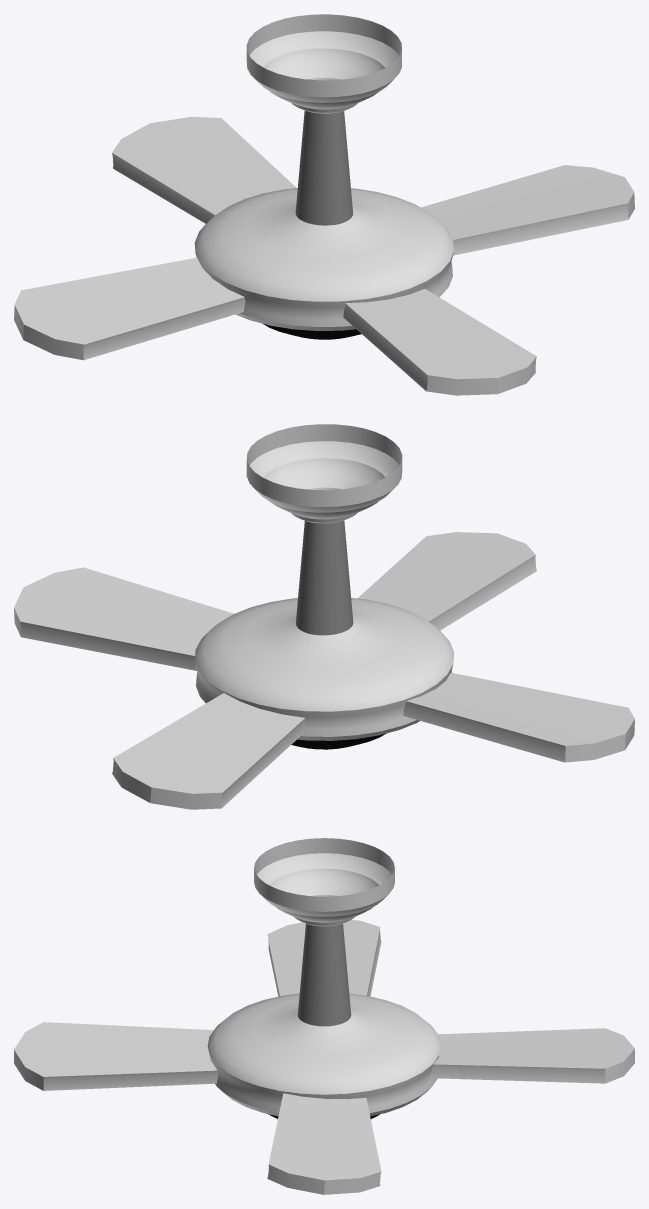
Rendered from Bedroom.CeilingFan.fbx.
The picture shows the model from 3 angles, top to bottom: view 1: azimuth 30°, elevation 25°; view 2: azimuth 150°, elevation 25°; view 3: azimuth 270°, elevation 25°; orthographic projection. The views are drawn at different scales.
Visible parts, largest first — view 1: Ceiling Fan - Arms, Ceiling_Fan, Ceiling_Fan_Pole, Ceiling_Fan_Light; view 2: Ceiling Fan - Arms, Ceiling_Fan, Ceiling_Fan_Pole, Ceiling_Fan_Light; view 3: Ceiling Fan - Arms, Ceiling_Fan, Ceiling_Fan_Pole.
Part boxes in pixels (x1=…): Ceiling Fan - Arms: x1=14, y1=116, x2=634, y2=395; Ceiling_Fan: x1=194, y1=14, x2=453, y2=330; Ceiling_Fan_Pole: x1=295, y1=110, x2=352, y2=225; Ceiling_Fan_Light: x1=263, y1=324, x2=361, y2=339; Ceiling Fan - Arms: x1=14, y1=532, x2=634, y2=809; Ceiling_Fan: x1=194, y1=424, x2=454, y2=740; Ceiling_Fan_Pole: x1=295, y1=520, x2=353, y2=635; Ceiling_Fan_Light: x1=291, y1=733, x2=385, y2=749; Ceiling Fan - Arms: x1=14, y1=920, x2=634, y2=1194; Ceiling_Fan: x1=207, y1=838, x2=441, y2=1116; Ceiling_Fan_Pole: x1=297, y1=923, x2=351, y2=1026.
Bounding box in the file's own units: 424 × 189 × 424.
